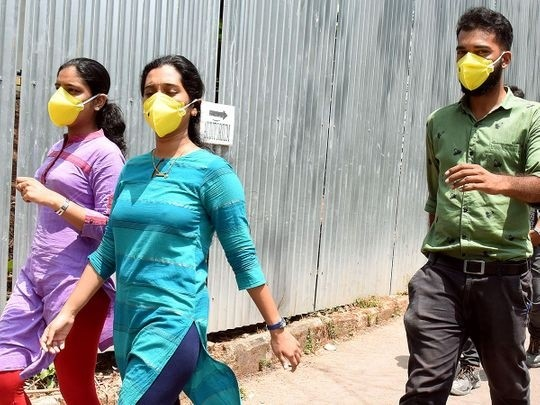face_with_mask: (134, 61, 201, 147), (40, 62, 111, 136), (447, 20, 511, 101)
